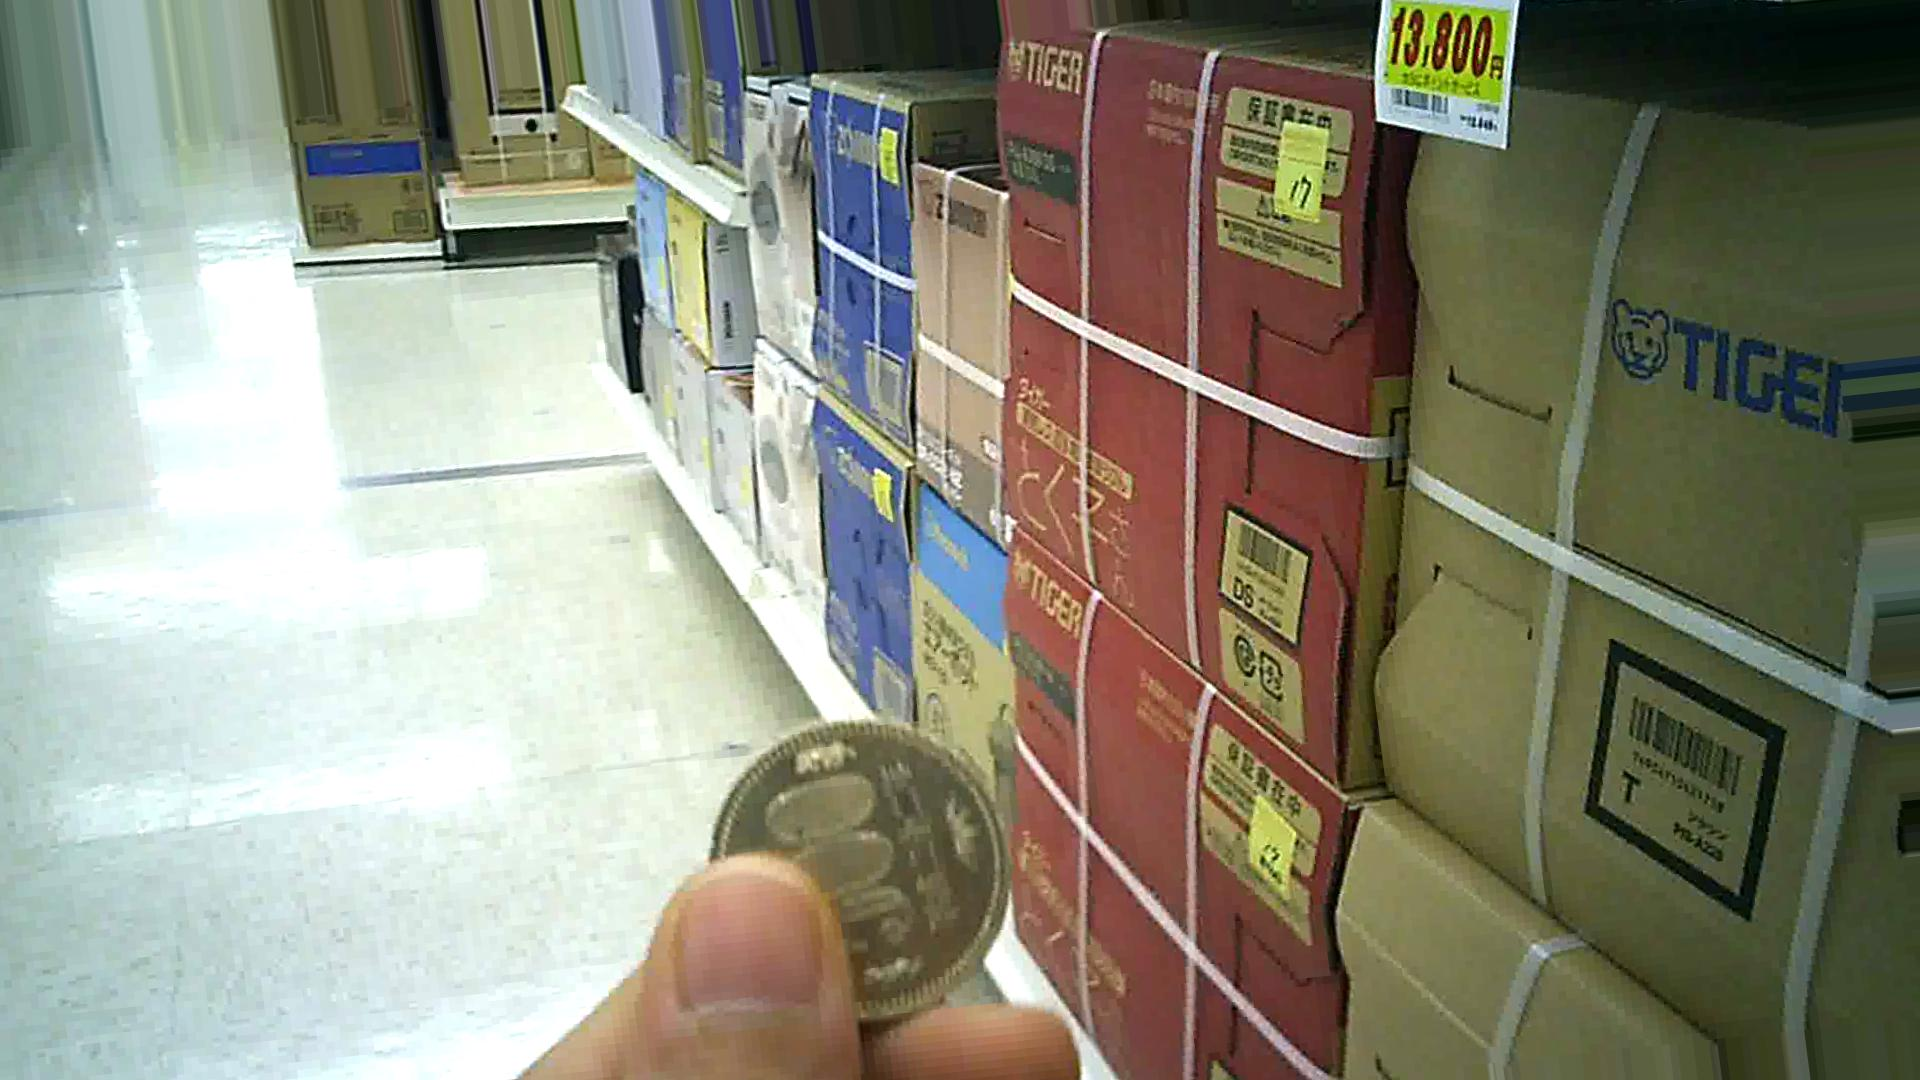500 Yen: (702, 712, 1027, 1038)
